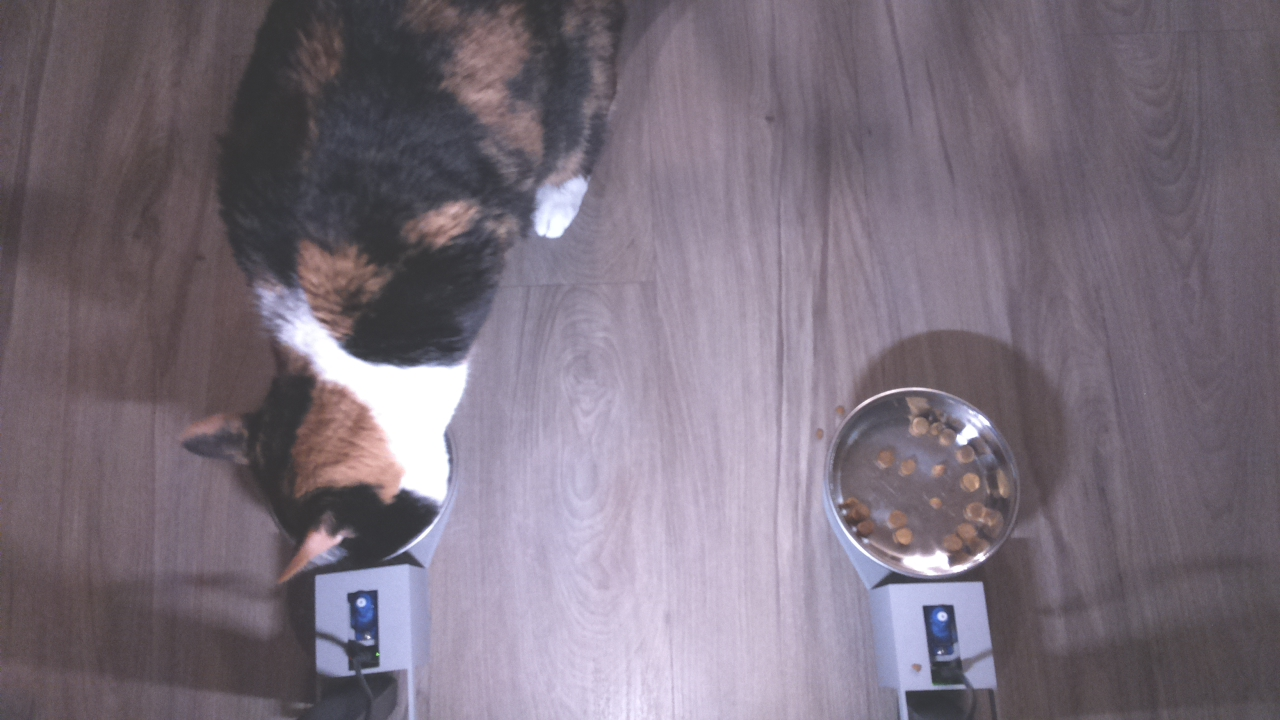bella_eating: (173, 286, 484, 587)
open_bowl: (822, 380, 1026, 589)
